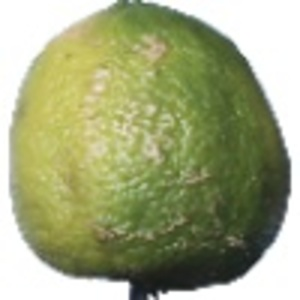limão: (8, 1, 290, 300)
